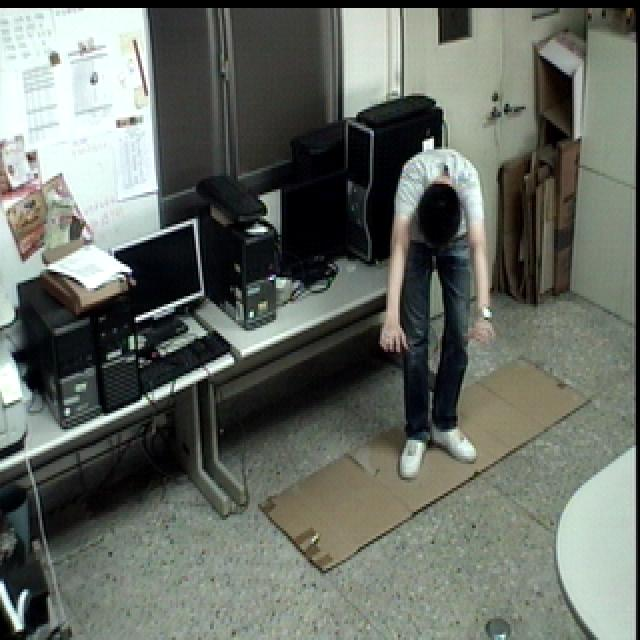bend: (373, 142, 493, 480)
